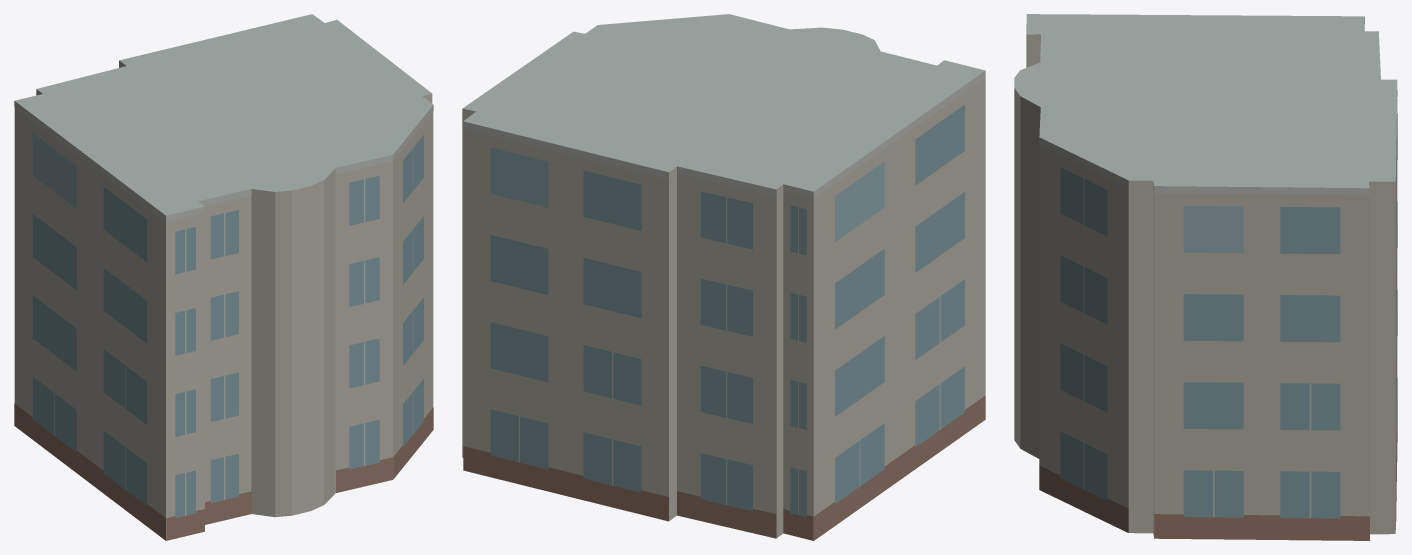
The model's file is survey-upis-33017833.glb.
3 views of the same model, side by side, from view 1: azimuth 30°, elevation 25°; view 2: azimuth 150°, elevation 25°; view 3: azimuth 270°, elevation 25° (orthographic). The views are drawn at different scales.
Visible parts, largest first — view 1: survey-upis-33017833.tmp; view 2: survey-upis-33017833.tmp; view 3: survey-upis-33017833.tmp.
Boxes of the visible parts, bbox=[...] form: survey-upis-33017833.tmp: bbox=[14, 14, 433, 540]; survey-upis-33017833.tmp: bbox=[462, 14, 985, 540]; survey-upis-33017833.tmp: bbox=[1014, 14, 1397, 540].
Bounding box in the file's own units: 12.83 × 12.1 × 11.92.
